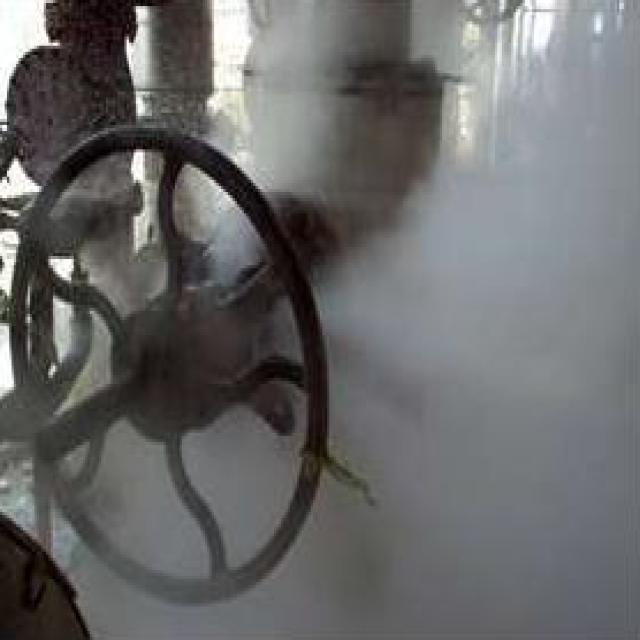fire: (30, 177, 640, 640), (449, 0, 640, 640)
